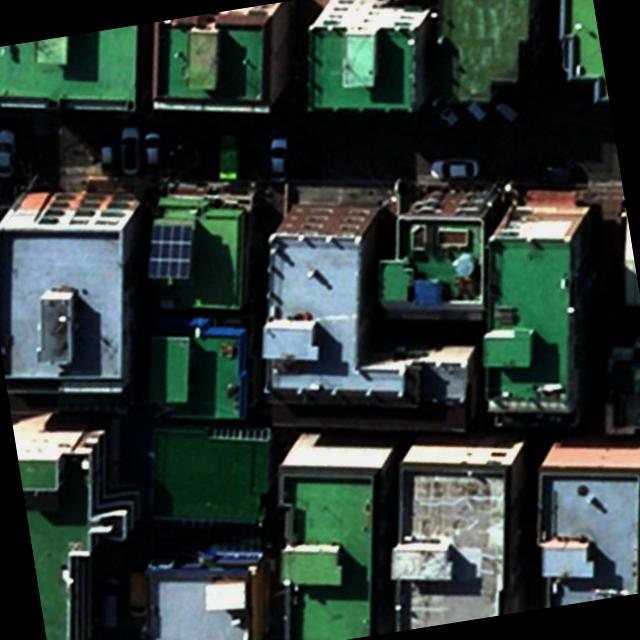solar: (135, 208, 209, 288)
